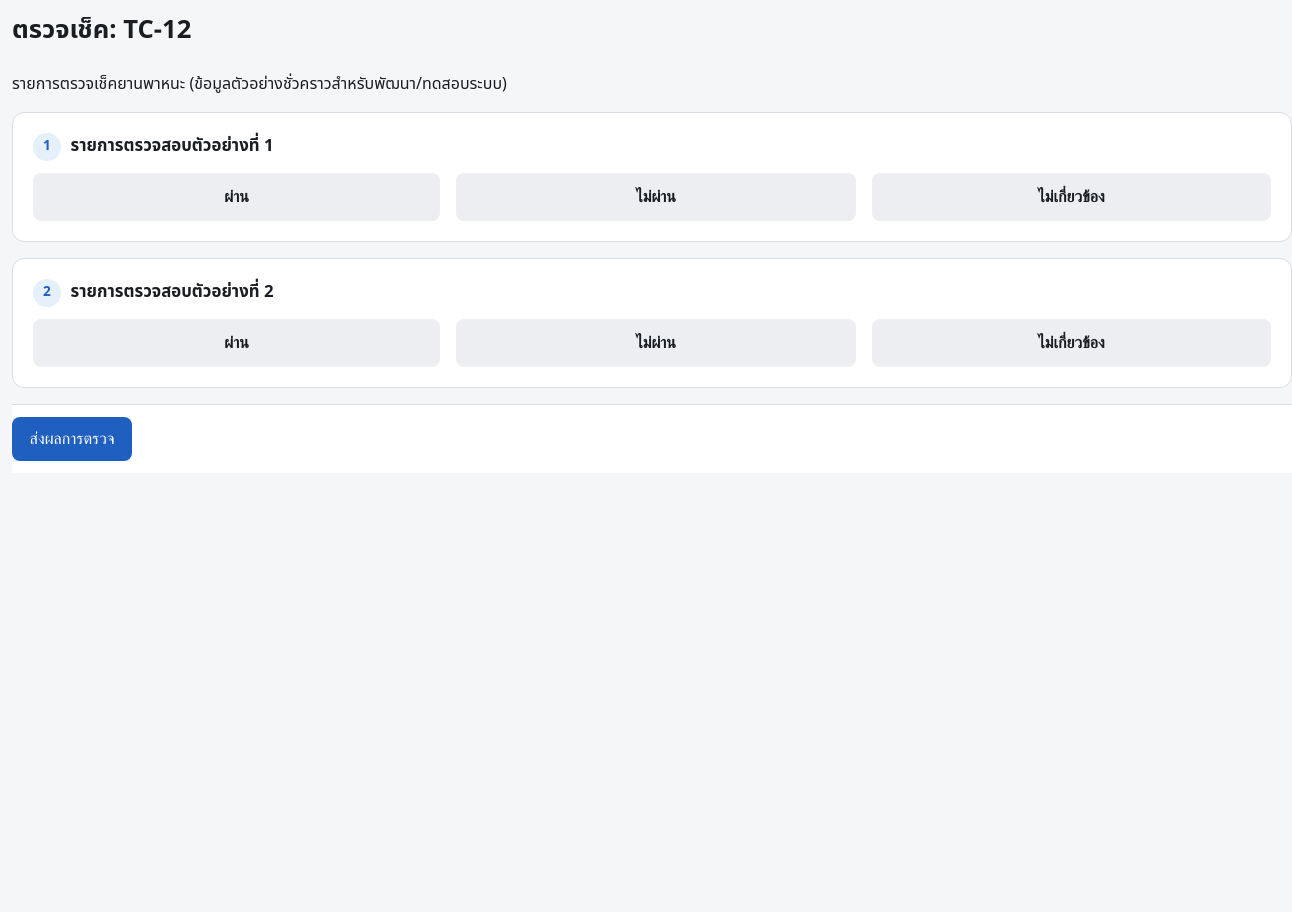
Scenario: InspectionFormPage › blocks submission until a remark is entered when the item requires one
Check: the heading "รายการตรวจสอบตัวอย่างที่ 1" is shown, box 71,134 -> 274,159
Click the radio button labelled "ไม่ผ่าน" below "รายการตรวจสอบตัวอย่างที่ 1".
click(656, 197)  # box 456,173 -> 856,221
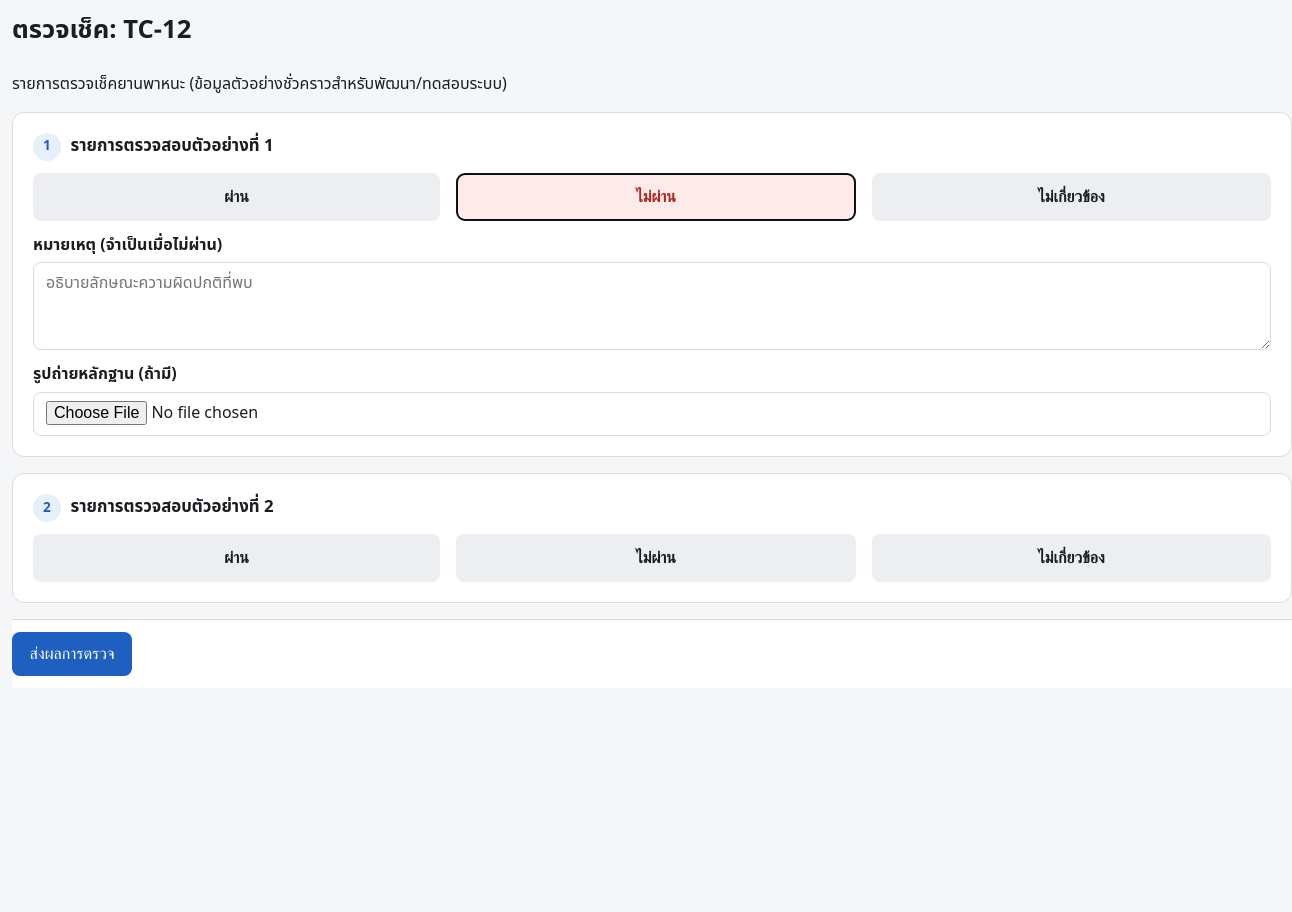
Check: the text box labelled "หมายเหตุ (จำเป็นเมื่อไม่ผ่าน)" is shown, box 33,262 -> 1271,350
Click the radio button labelled "ผ่าน" below "รายการตรวจสอบตัวอย่างที่ 2".
click(237, 558)  # box 33,534 -> 440,582
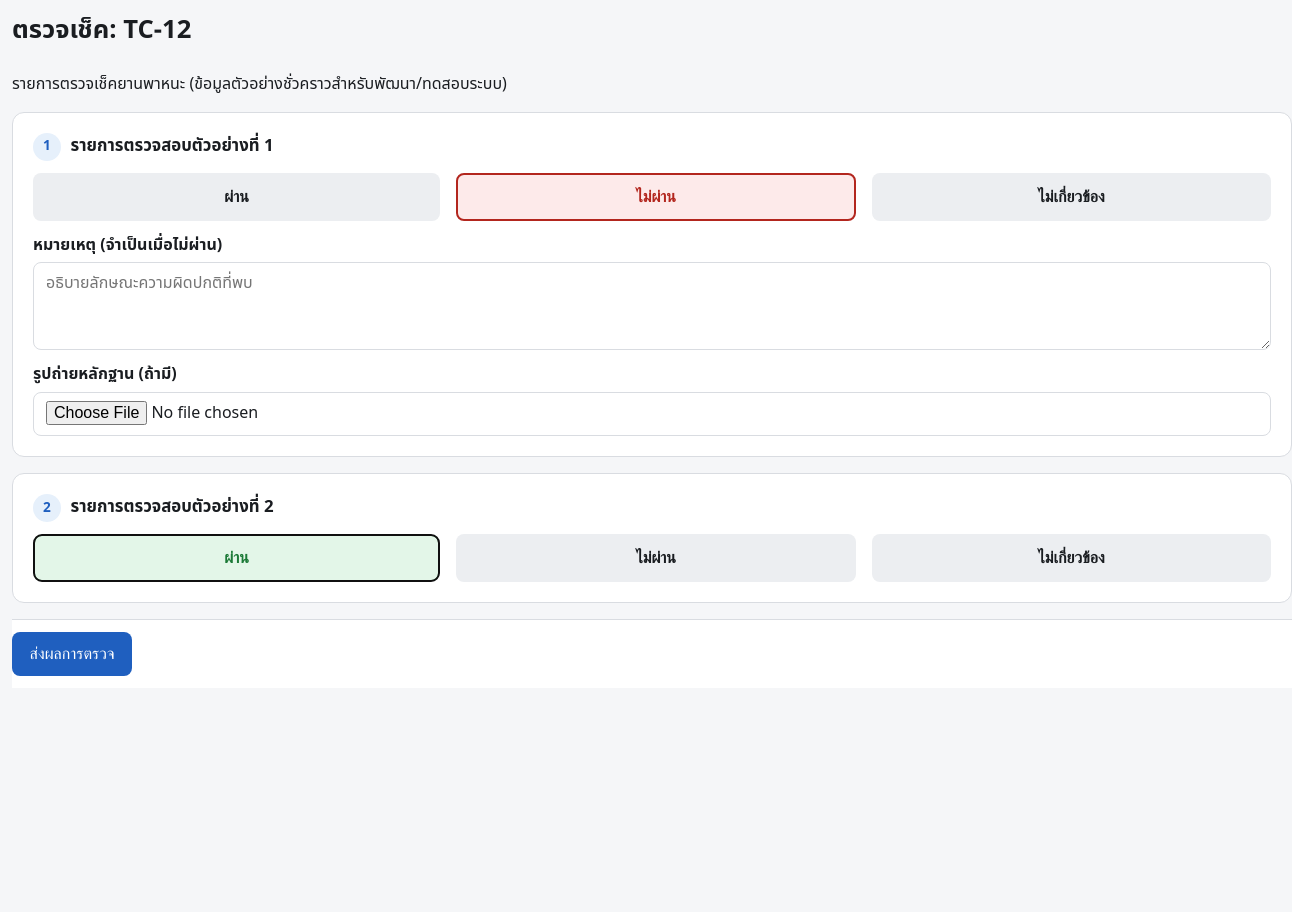
Click the button "ส่งผลการตรวจ".
click(72, 654)  # box 12,632 -> 132,676
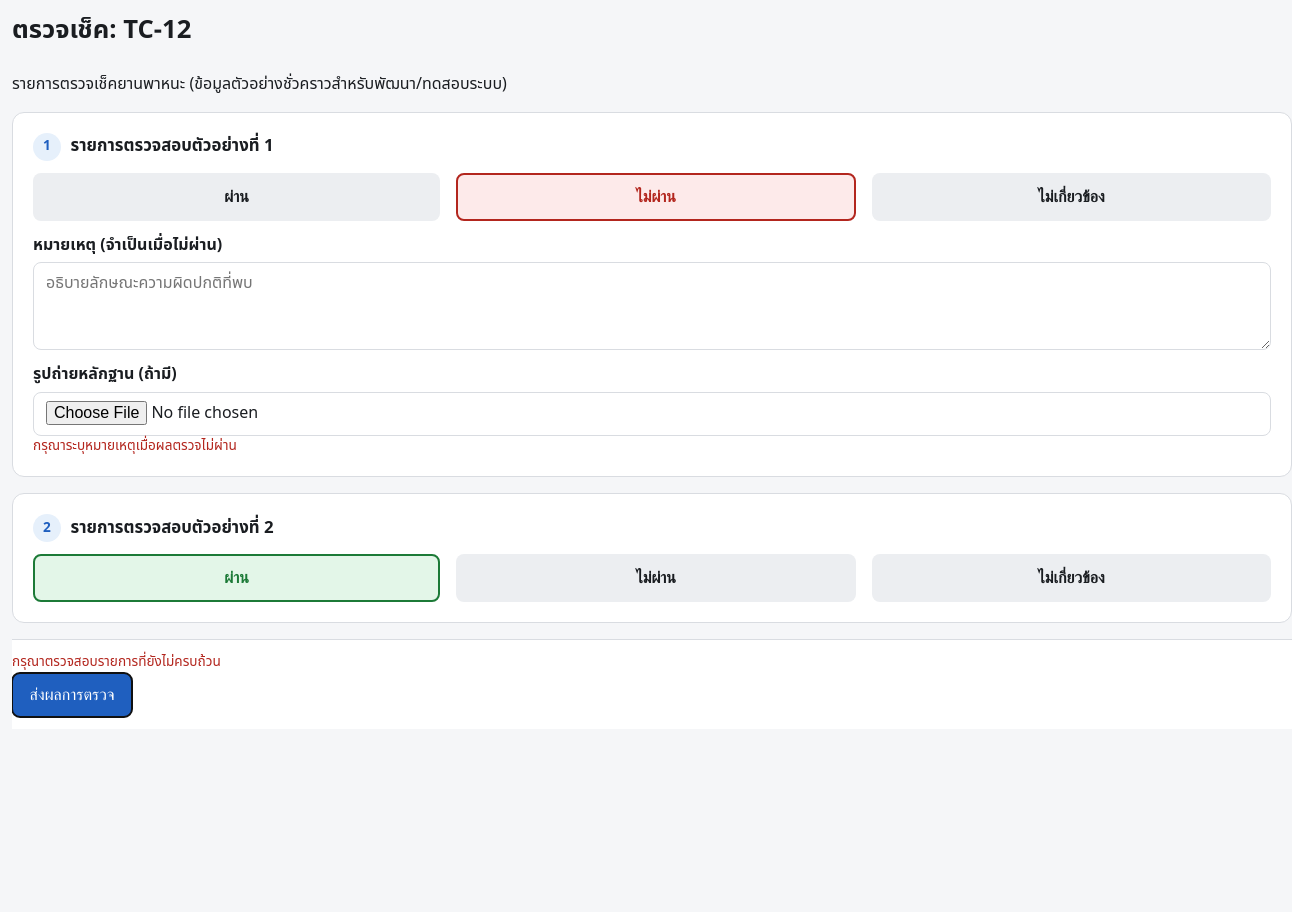
Check: the text "กรุณาตรวจสอบรายการที่ยังไม่ครบถ้วน" is shown, box 12,652 -> 221,672
